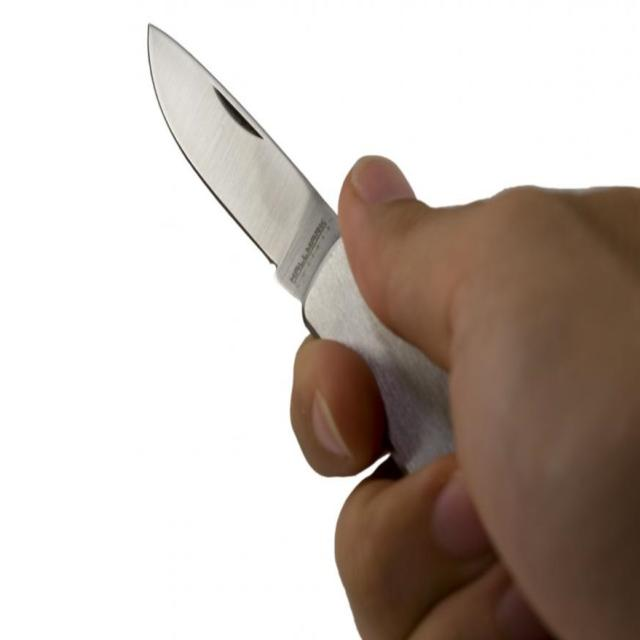knife: (145, 17, 352, 324)
